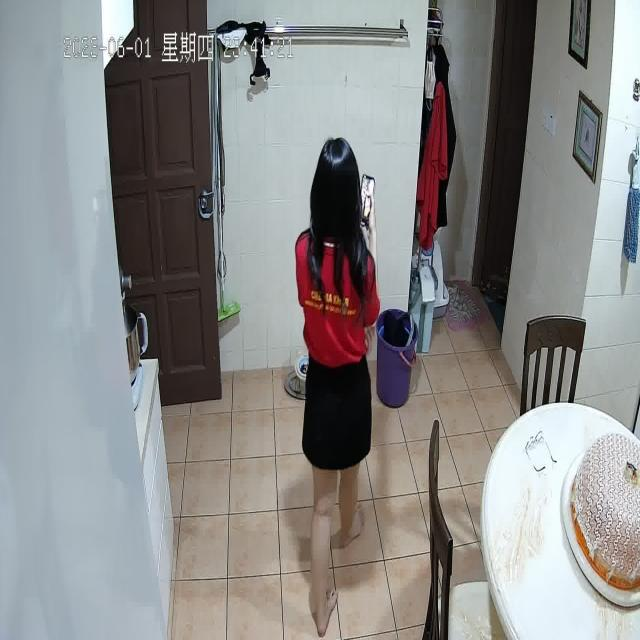Head: (310, 137, 360, 234)
